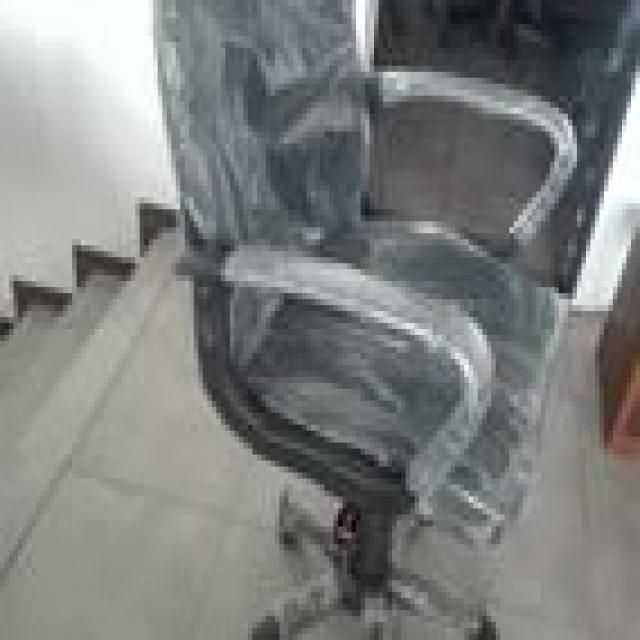others: (144, 6, 586, 640)
